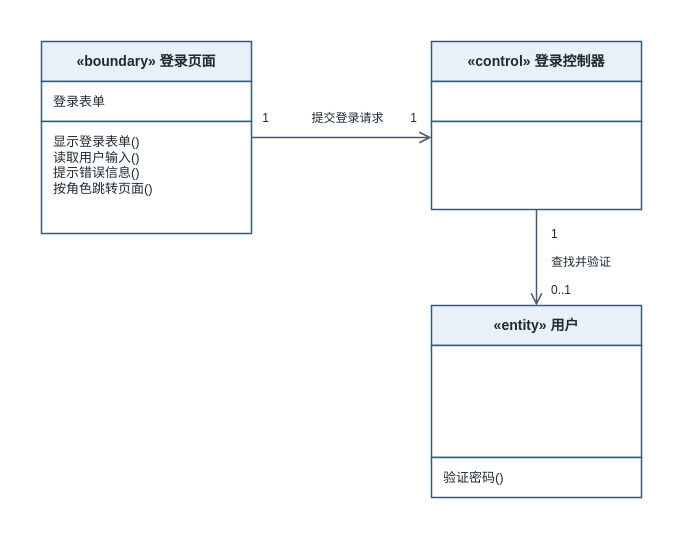
Image size: 682x538. Some labels were removed from this diagram. Each missing label, with the centre of its shape:
校验输入完整性() 验证账户() 判断角色(): the point at 536,165
用户名 密码 邮箱 角色: the point at 536,401
